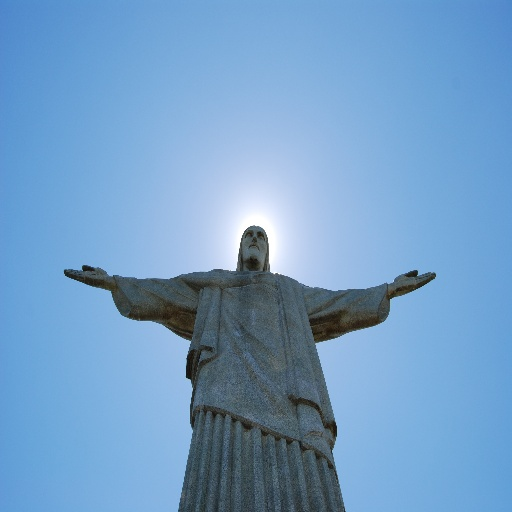hand: (60, 261, 110, 288), (392, 268, 437, 297)
